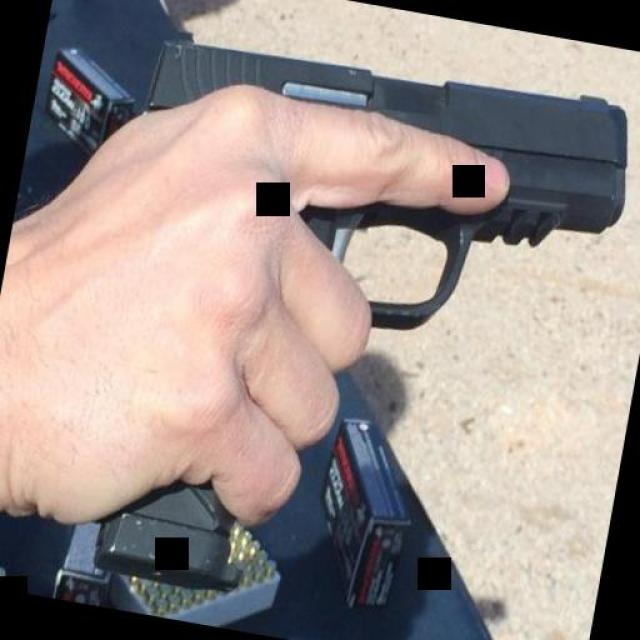gun: (60, 6, 640, 640)
